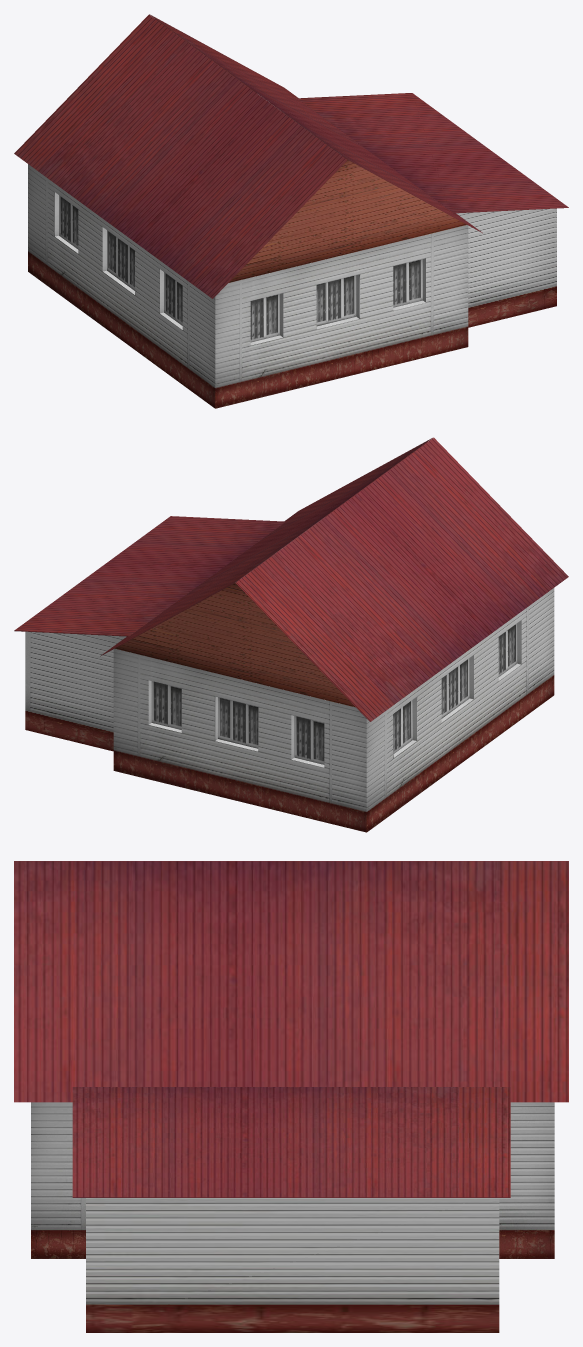
File: house.fbx
3 views of the same model, one above another, from view 1: azimuth 30°, elevation 25°; view 2: azimuth 150°, elevation 25°; view 3: azimuth 270°, elevation 25° (orthographic). The views are drawn at different scales.
Visible parts, largest first — view 1: Box01; view 2: Box01; view 3: Box01.
Boxes of the visible parts, bbox=[...] form: Box01: bbox=[14, 14, 568, 408]; Box01: bbox=[14, 437, 568, 832]; Box01: bbox=[14, 861, 568, 1332].
Bounding box in the file's own units: 12.9 × 7.28 × 11.75.
Materials: 1 (1 with a texture image).
